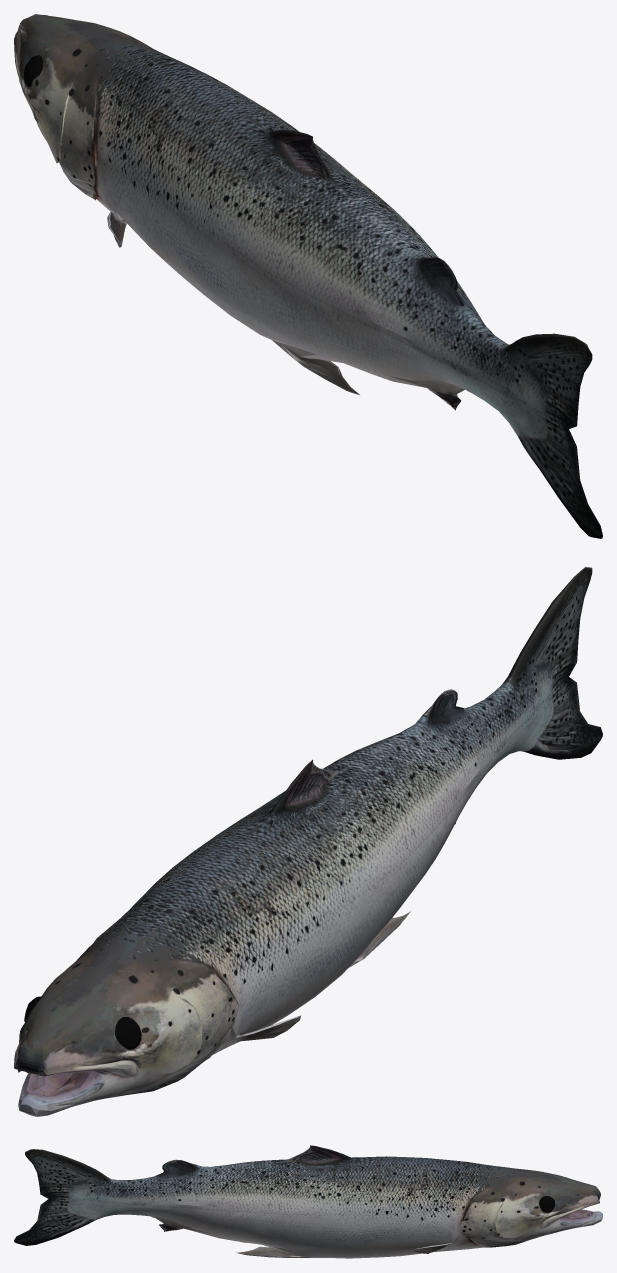
File: smolt-to-adult-ver-13.gltf
3 renders of one model, top to bottom at view 1: azimuth 30°, elevation 25°; view 2: azimuth 150°, elevation 25°; view 3: azimuth 270°, elevation 25°, orthographic. The views are drawn at different scales.
Visible parts, largest first — view 1: Smolt; view 2: Smolt; view 3: Smolt.
Boxes of the visible parts, bbox=[...] form: Smolt: bbox=[14, 14, 602, 538]; Smolt: bbox=[14, 567, 602, 1116]; Smolt: bbox=[14, 1145, 602, 1258].
Size of the model in its own units: 9.73 by 10.85 by 53.58.
Materials: 1 (1 with a texture image).
